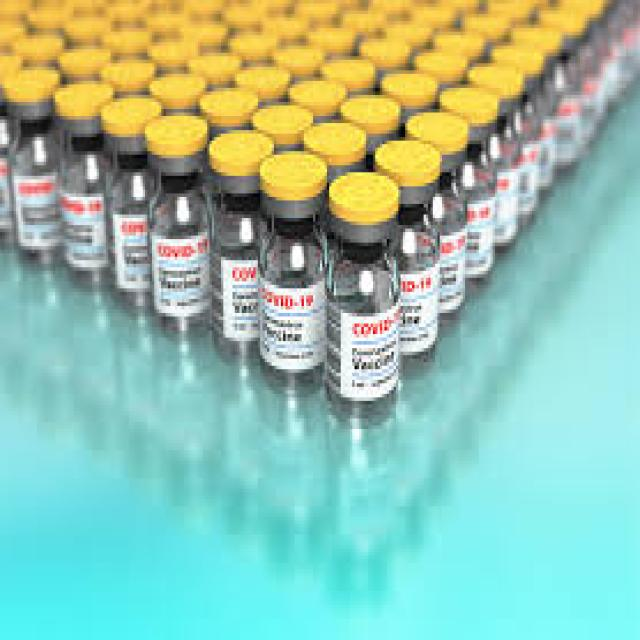vial: (210, 124, 276, 176), (413, 106, 476, 152), (94, 97, 164, 137), (260, 149, 321, 194), (376, 137, 439, 176), (332, 173, 389, 216), (493, 41, 549, 82), (146, 116, 206, 154), (7, 64, 62, 105), (474, 60, 520, 104), (442, 82, 494, 119), (51, 84, 108, 117), (345, 92, 399, 126), (382, 70, 436, 102), (303, 124, 357, 156), (518, 22, 563, 60), (110, 58, 161, 90), (241, 62, 291, 92), (262, 103, 309, 133), (19, 35, 66, 65), (149, 36, 198, 64), (232, 27, 280, 55), (157, 71, 203, 100), (328, 53, 372, 82), (422, 47, 468, 74), (114, 28, 156, 56), (292, 81, 342, 104), (210, 91, 260, 114), (58, 41, 102, 67), (547, 6, 583, 35), (565, 0, 607, 24), (188, 21, 227, 46), (363, 35, 403, 59), (36, 1, 76, 25), (281, 36, 315, 64), (199, 55, 237, 80), (469, 9, 508, 33), (438, 30, 481, 51), (309, 0, 341, 25), (317, 21, 347, 47), (154, 0, 193, 20), (230, 8, 265, 30), (158, 20, 190, 44), (271, 10, 302, 34), (391, 18, 421, 41), (190, 8, 226, 26), (415, 2, 452, 18), (346, 1, 368, 27), (76, 20, 110, 36), (0, 30, 29, 48), (0, 0, 31, 16), (373, 0, 406, 14), (111, 0, 141, 14), (0, 56, 20, 76), (498, 0, 531, 7), (451, 0, 473, 6)
